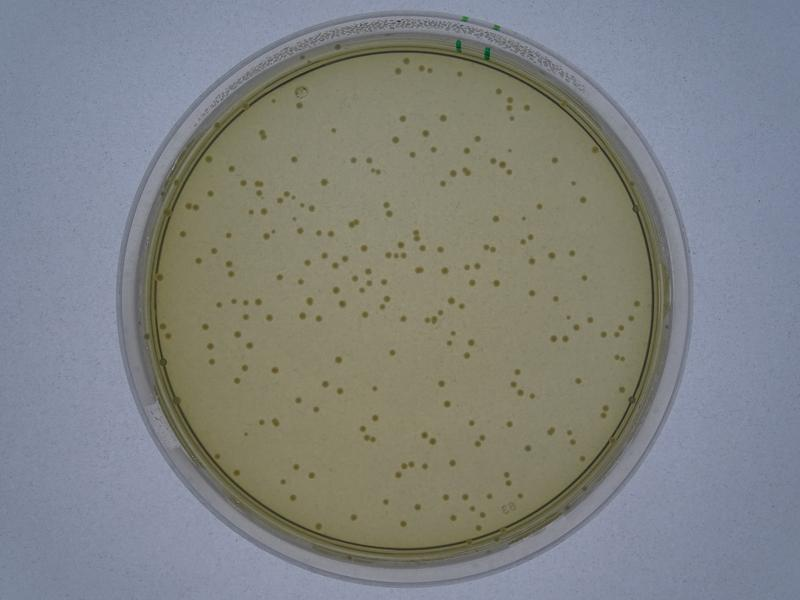colony: (286, 153, 305, 167), (436, 377, 449, 393), (267, 364, 282, 377), (488, 214, 504, 226), (437, 110, 449, 125), (503, 417, 515, 432), (396, 110, 408, 124), (346, 511, 360, 523), (548, 152, 560, 165), (511, 363, 525, 374), (309, 403, 323, 414), (192, 254, 203, 267), (319, 176, 332, 187), (574, 372, 585, 385), (524, 287, 535, 300), (385, 348, 398, 358), (204, 341, 217, 351), (333, 354, 344, 365), (534, 200, 545, 211), (371, 413, 382, 424), (307, 468, 317, 480), (222, 230, 234, 240), (359, 241, 369, 253), (276, 272, 285, 285), (314, 314, 325, 324), (580, 194, 590, 205), (319, 380, 329, 391), (490, 278, 500, 288), (390, 134, 399, 145), (525, 443, 533, 455), (440, 266, 449, 276), (289, 493, 296, 505), (462, 353, 472, 360)
